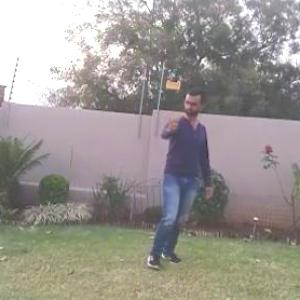takeoff-hand: (162, 107, 184, 137)
